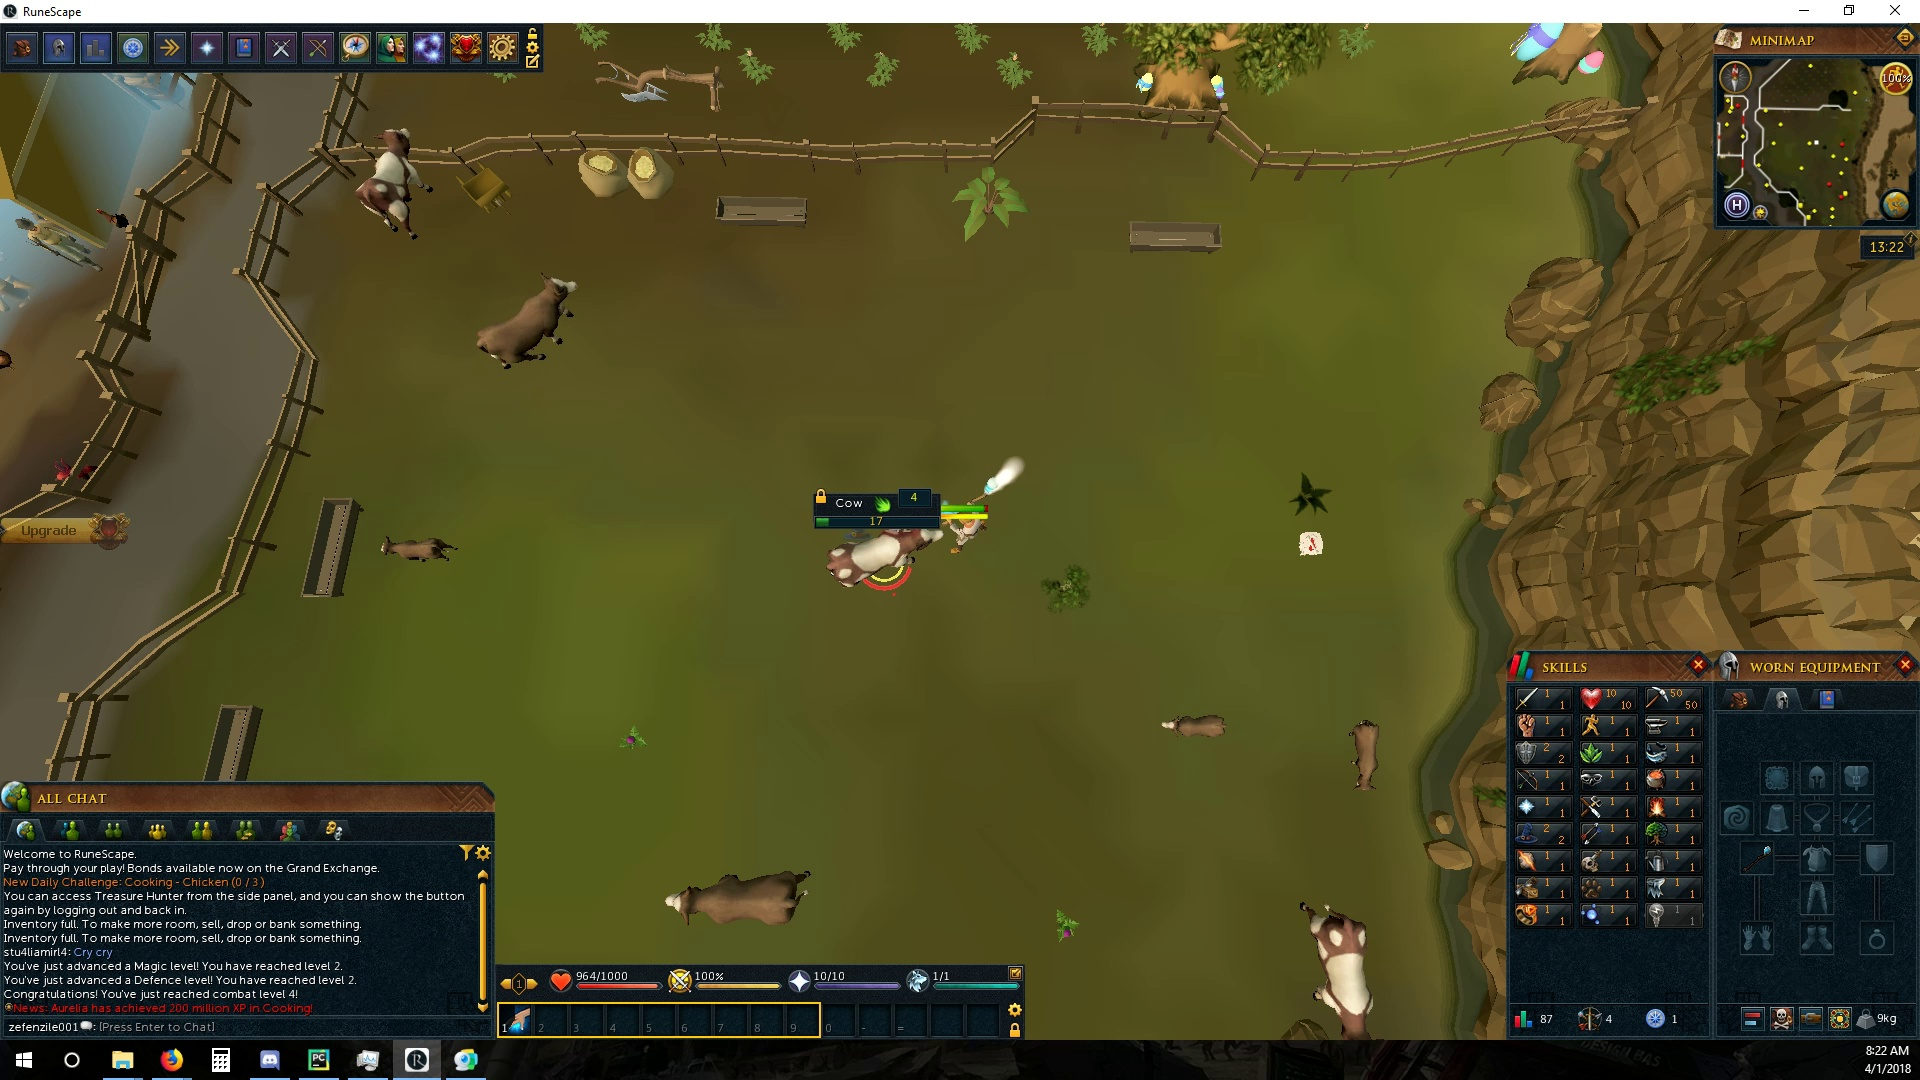calf: (1348, 719, 1382, 796), (376, 537, 460, 566), (1159, 712, 1232, 738)
cow: (1288, 902, 1381, 1040), (344, 123, 436, 247), (473, 274, 582, 373), (658, 865, 818, 927), (823, 527, 949, 593)
cow_drop: (1290, 527, 1328, 556)
